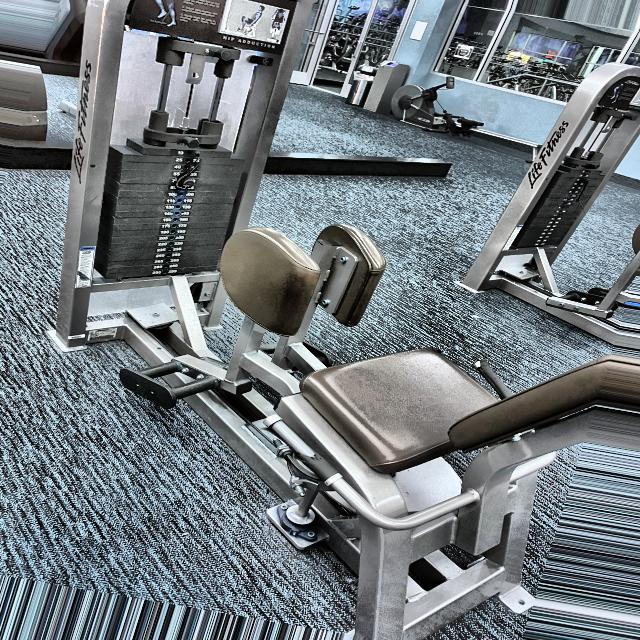hip_adduction_machine: (192, 196, 440, 499), (132, 0, 291, 37), (204, 33, 280, 50)
